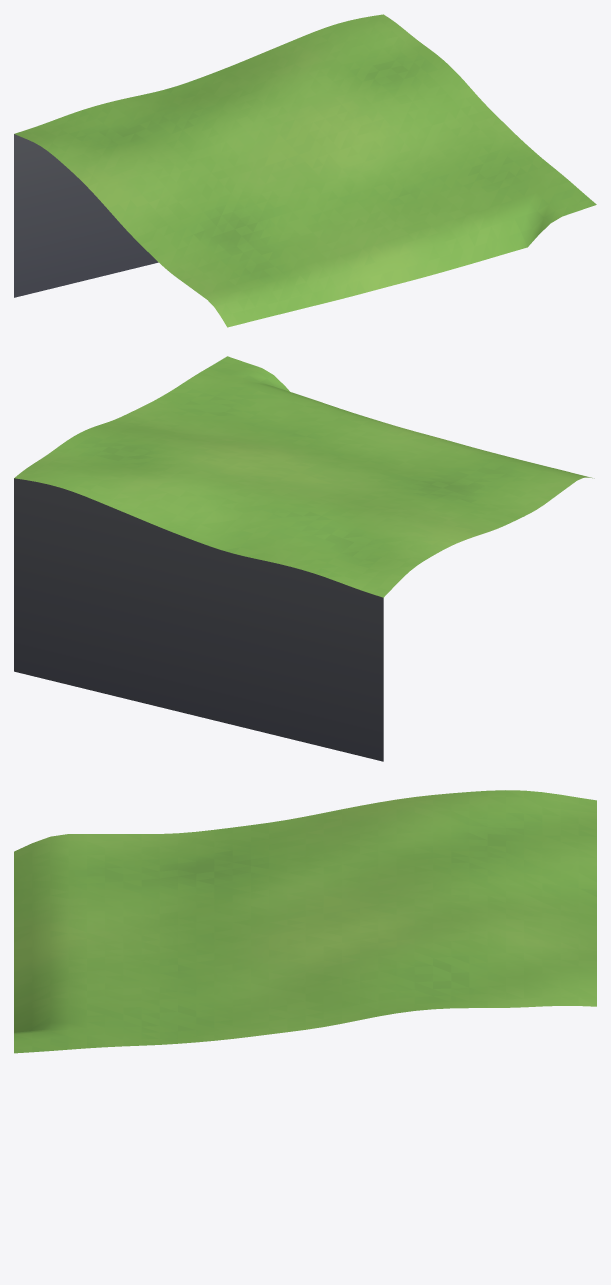
The model's file is terrain_r5_c2.glb.
3 views of the same model, one above another, from view 1: azimuth 30°, elevation 25°; view 2: azimuth 150°, elevation 25°; view 3: azimuth 270°, elevation 25° (orthographic). The views are drawn at different scales.
Parts seen in each view (by area): view 1: terrain_r5_c2; view 2: terrain_r5_c2; view 3: terrain_r5_c2.
Part boxes in pixels (box(x1,y1,x2,y2)): terrain_r5_c2: box(14, 14, 596, 327); terrain_r5_c2: box(14, 356, 594, 761); terrain_r5_c2: box(14, 790, 596, 1053).
Size of the model in its own units: 128 by 64.9 by 128.
1 material, 1 textured.
